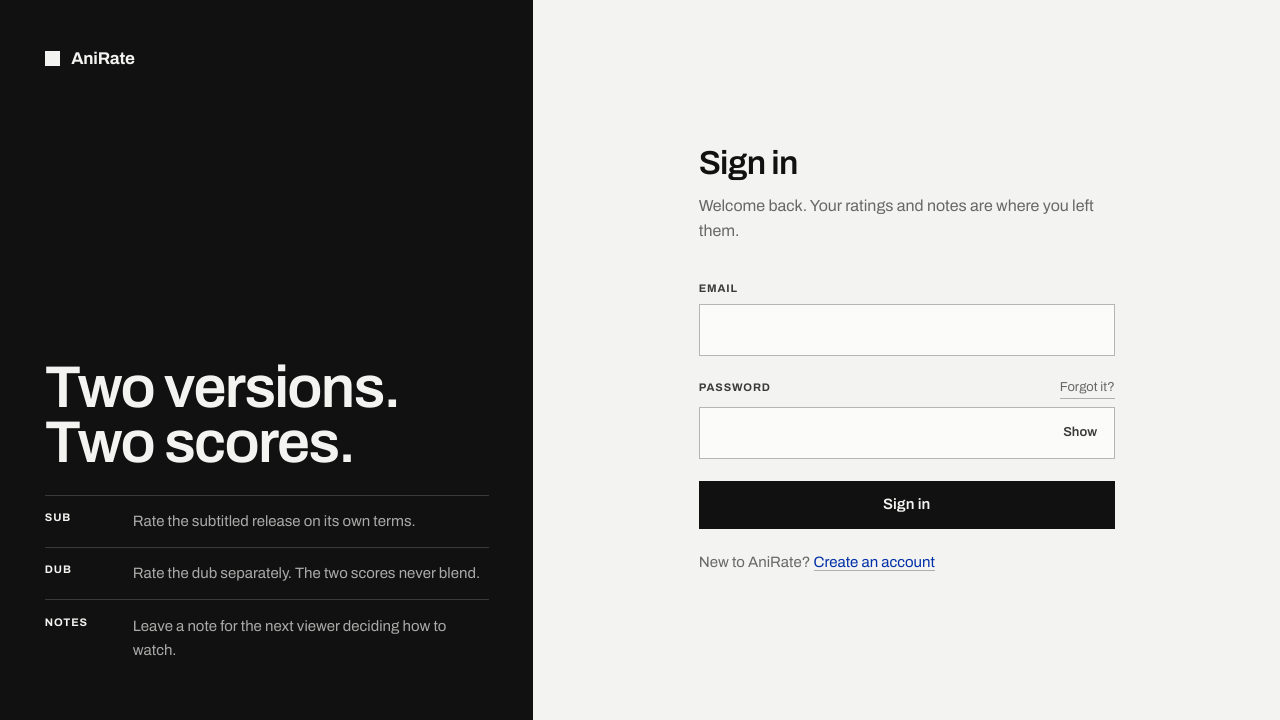
Test: LoginPage › shows an error and resets loading when credentials are invalid
The width and height of the screenshot is (1280, 720).
Type "nobody@example.com" into the field labelled "Email" at (907, 330), box [699,304,1115,356]
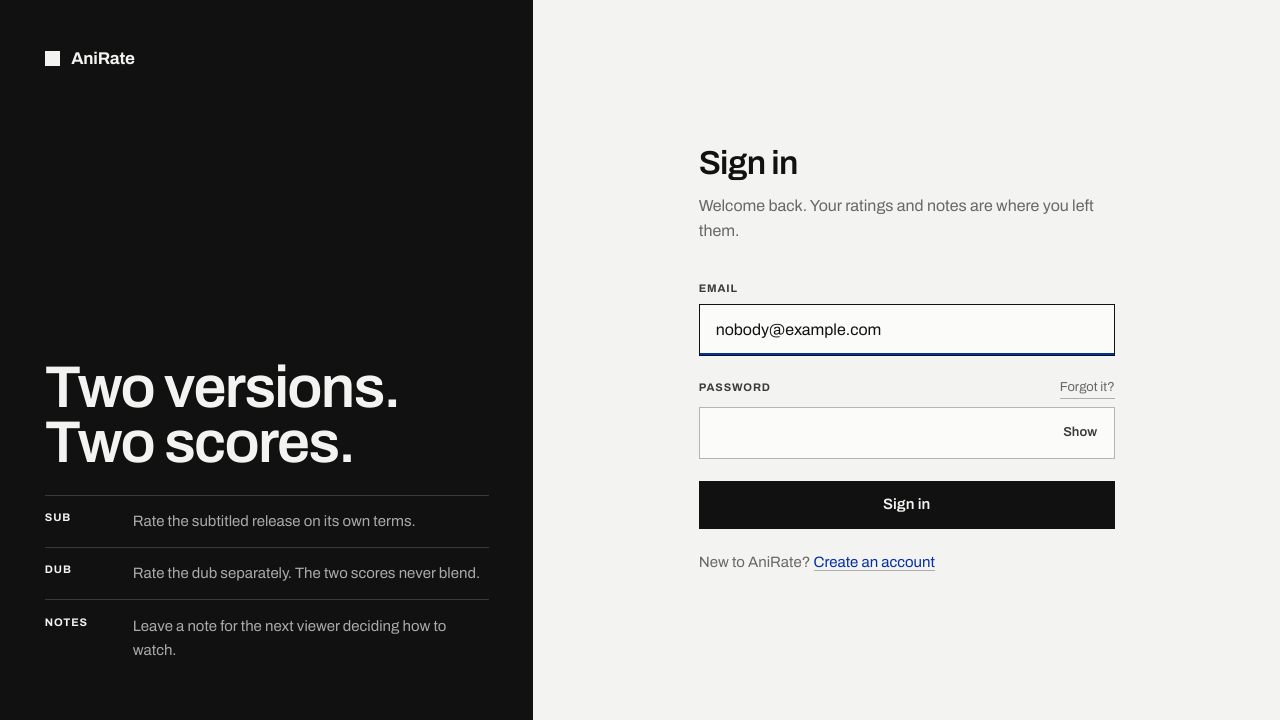
Type "WrongPassword123!" into the password field labelled "Password" at (907, 433), box [699,407,1115,459]
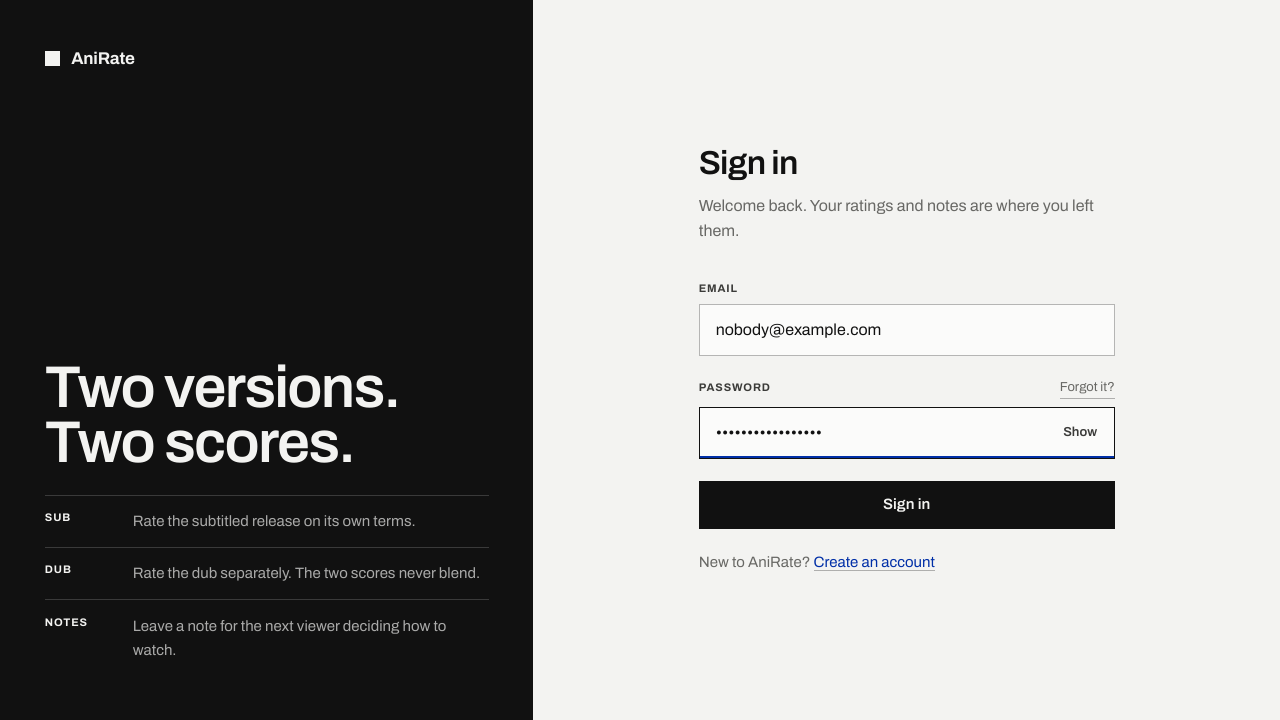
Click the button "Sign in" at (907, 505), box [699,481,1115,529]
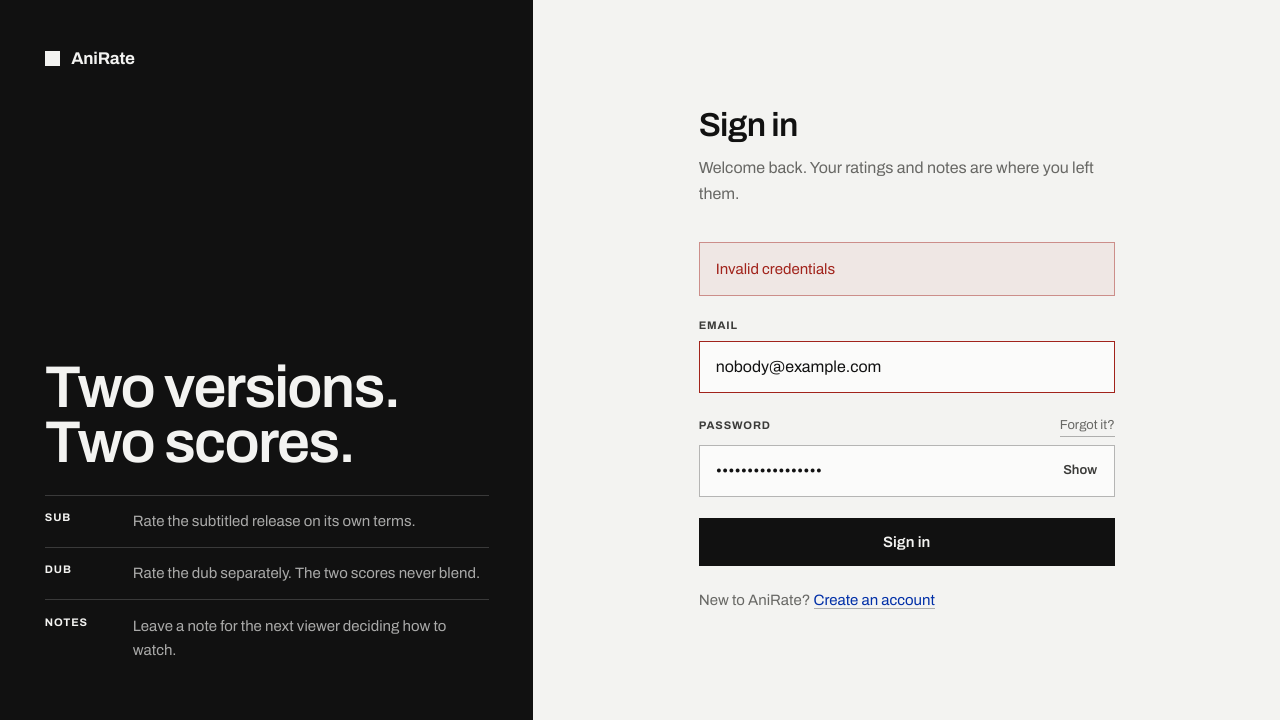
expect the button "Sign in" is enabled: met, box [699,518,1115,566]
expect the message reads "Invalid credentials": met, box [716,261,835,277]
